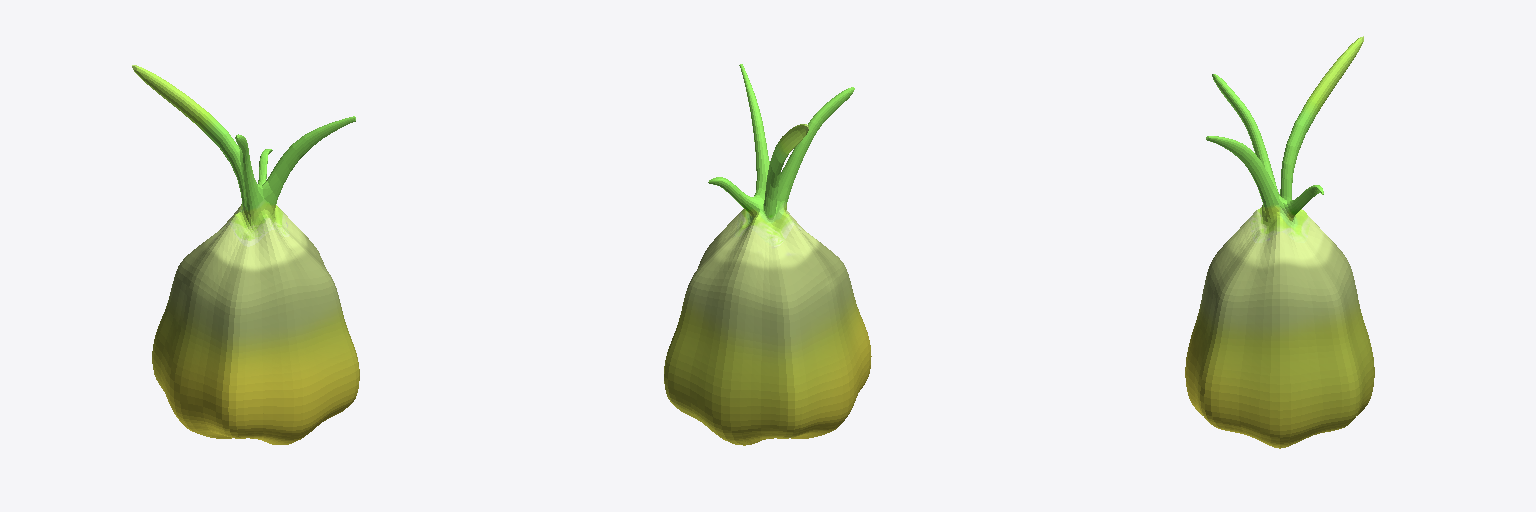
The picture shows the model from 3 angles: view 1: azimuth 30°, elevation 25°; view 2: azimuth 150°, elevation 25°; view 3: azimuth 270°, elevation 25°; orthographic projection.
Parts seen in each view (by area): view 1: Cube; view 2: Cube; view 3: Cube.
Part boxes in pixels (x1,y1,x2,y2): Cube: (132, 65, 359, 444); Cube: (664, 64, 871, 445); Cube: (1185, 36, 1374, 448).
Size of the model in its own units: 0.5236 by 1.09 by 0.5225.
Materials: 1 (1 with a texture image).